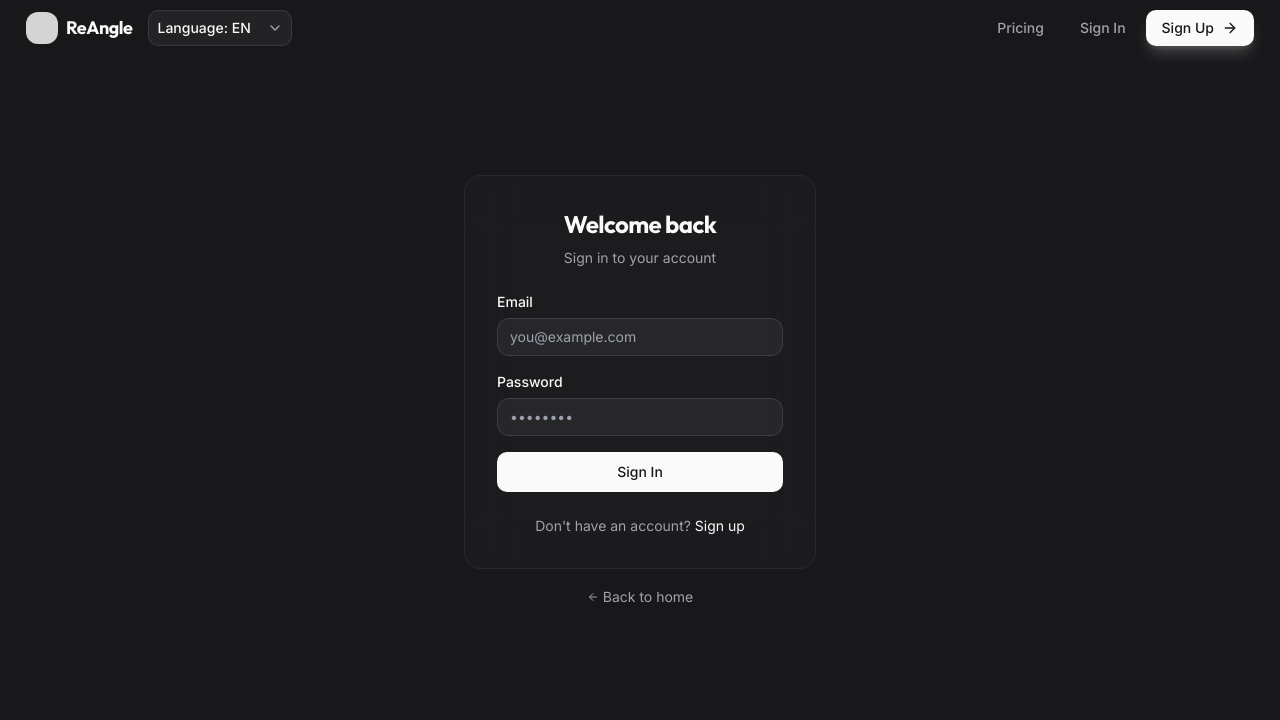
LoginPage › shows error message when sign-in fails
This screenshot has width=1280, height=720.
Type "bad@example.com" into the field labelled "Email" at (640, 337), box [497,318,783,356]
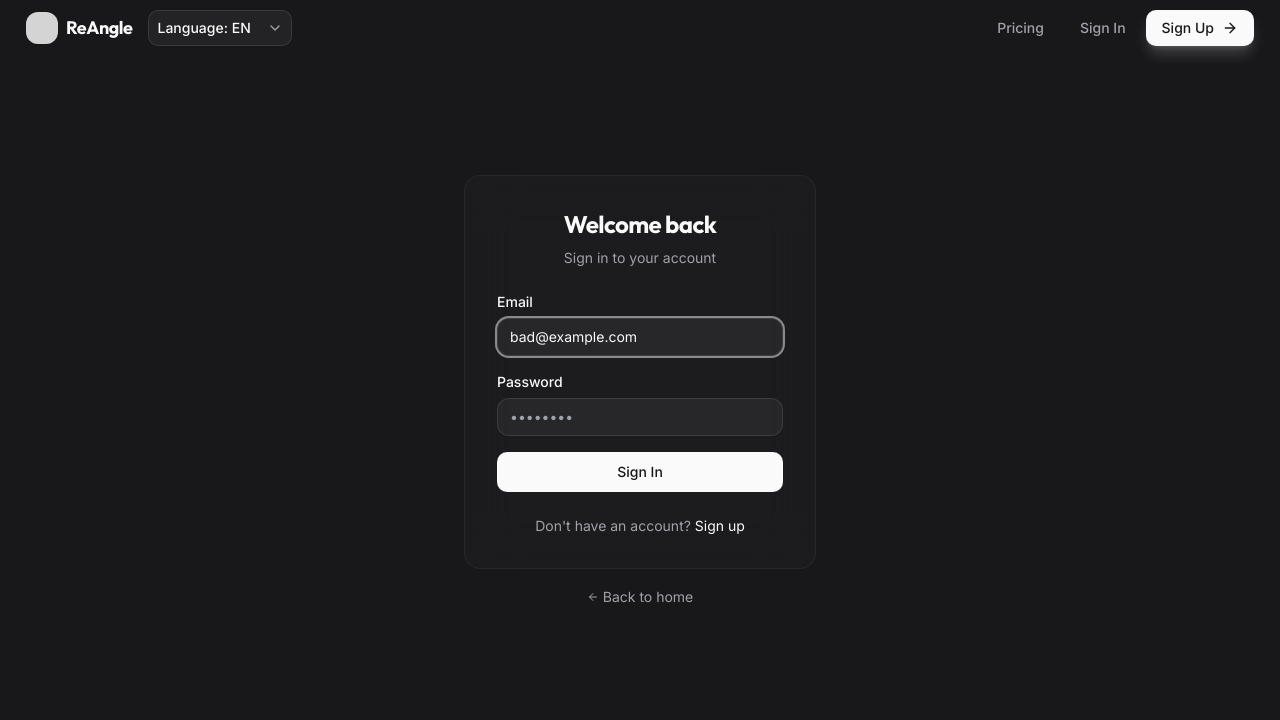
Type "wrong" into the password field labelled "Password" at (640, 417), box [497,398,783,436]
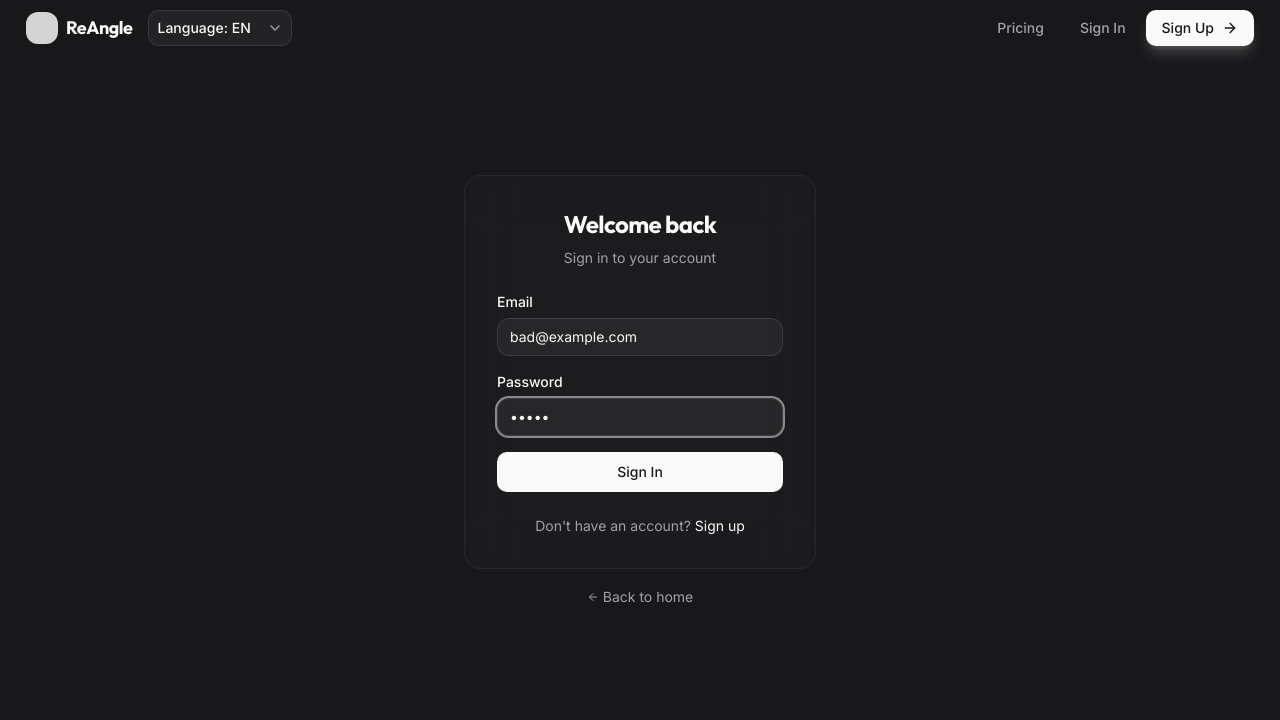
Click the button "Sign In" below "Password" at (640, 472), box [497,452,783,492]
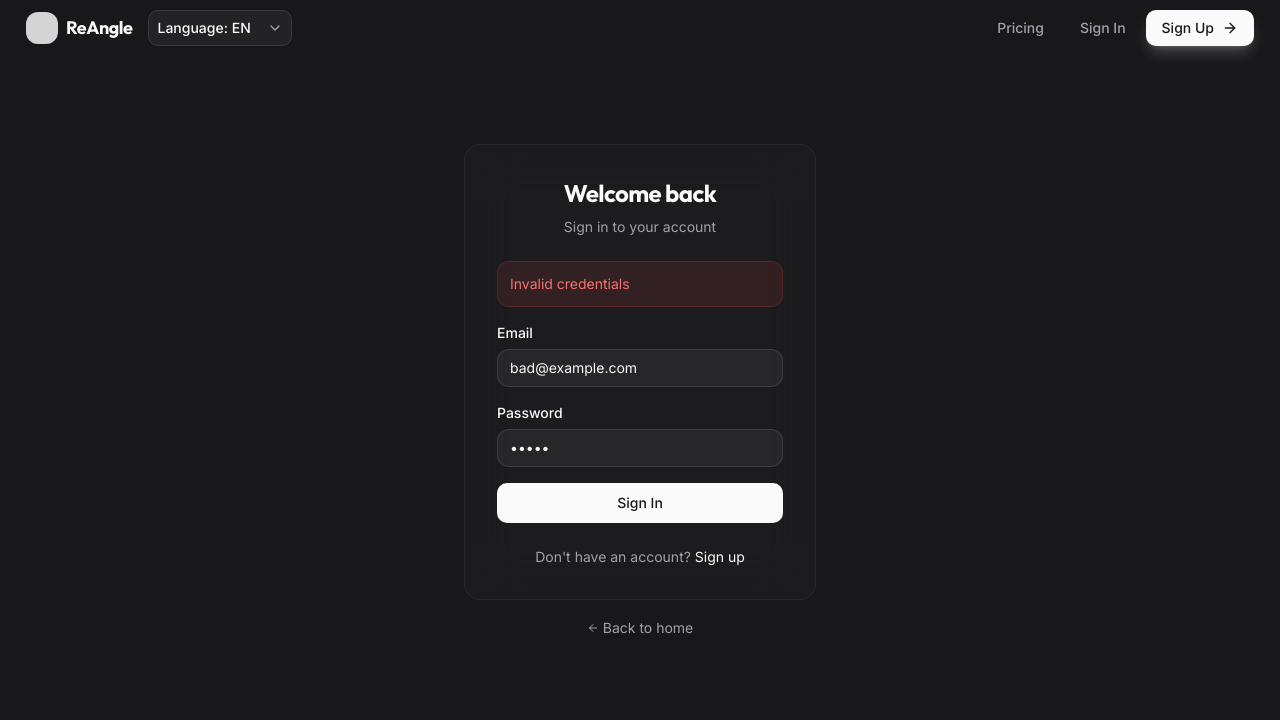
Expected: the text "Invalid credentials" is shown, [497,261,783,307]
